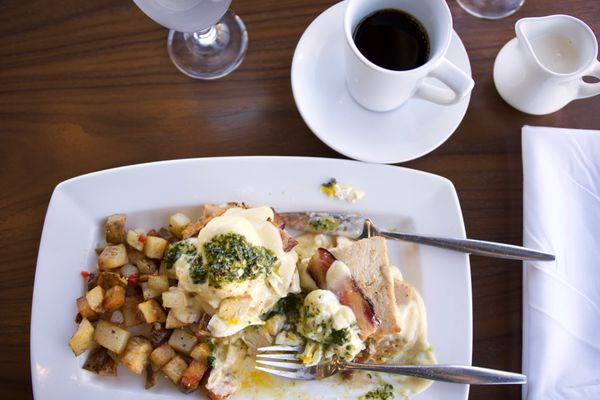curry: (189, 232, 283, 289)
